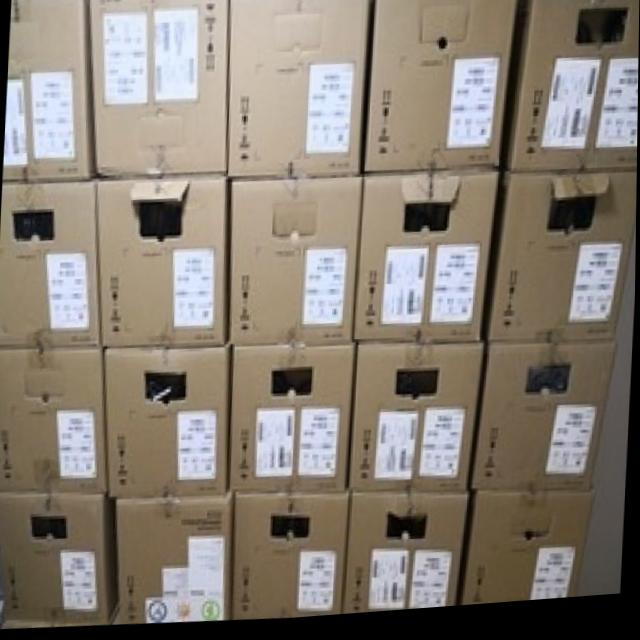box: (365, 0, 517, 176), (484, 179, 637, 347), (228, 0, 369, 182), (88, 0, 229, 180), (355, 176, 499, 350), (503, 0, 640, 181), (96, 180, 229, 348), (231, 182, 362, 347), (473, 350, 616, 498), (350, 350, 484, 501), (105, 350, 231, 501), (233, 350, 357, 498), (0, 180, 101, 348), (2, 0, 94, 182), (0, 495, 119, 626), (344, 498, 471, 620), (118, 495, 235, 626), (0, 350, 107, 493), (464, 498, 597, 613), (235, 498, 350, 623)
